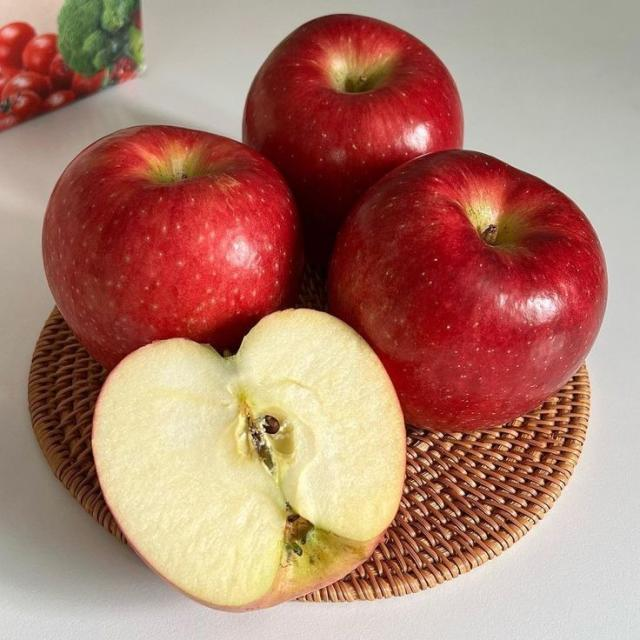apple: (93, 309, 406, 610), (329, 151, 606, 431), (43, 126, 301, 368), (243, 15, 462, 263)
